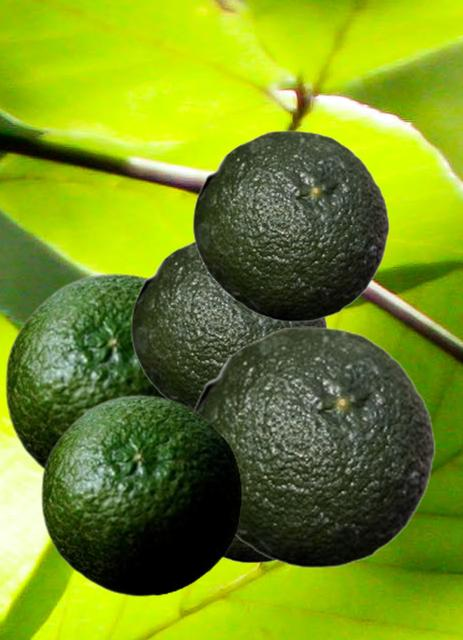calamansi: (191, 326, 435, 567), (40, 394, 241, 596), (192, 130, 389, 321), (130, 239, 327, 406), (4, 272, 162, 471), (222, 538, 277, 562)
